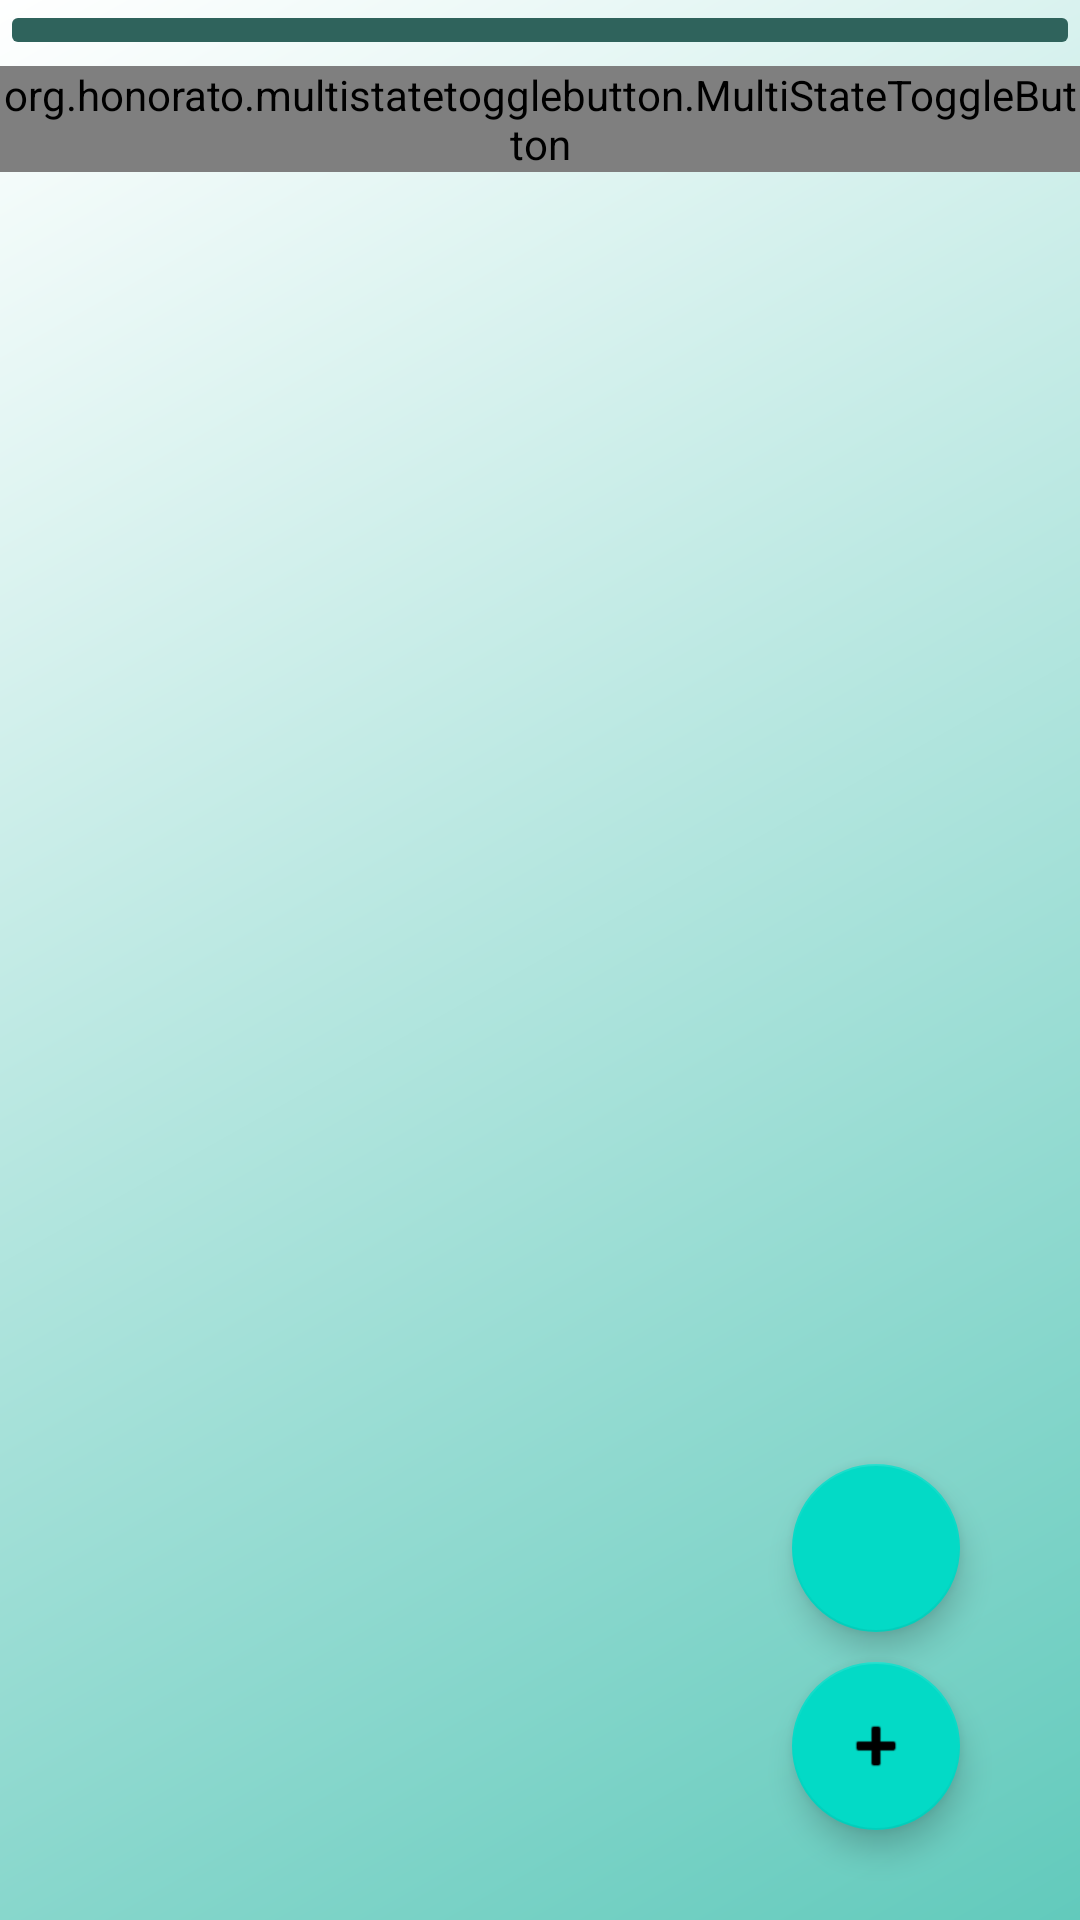

Named icons in this screenshot (1080px x 1920px) and their centers, [x,y]:
add: [876,1746]
